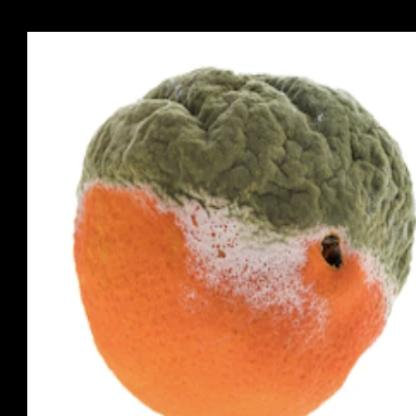rotten: (77, 68, 413, 416)
